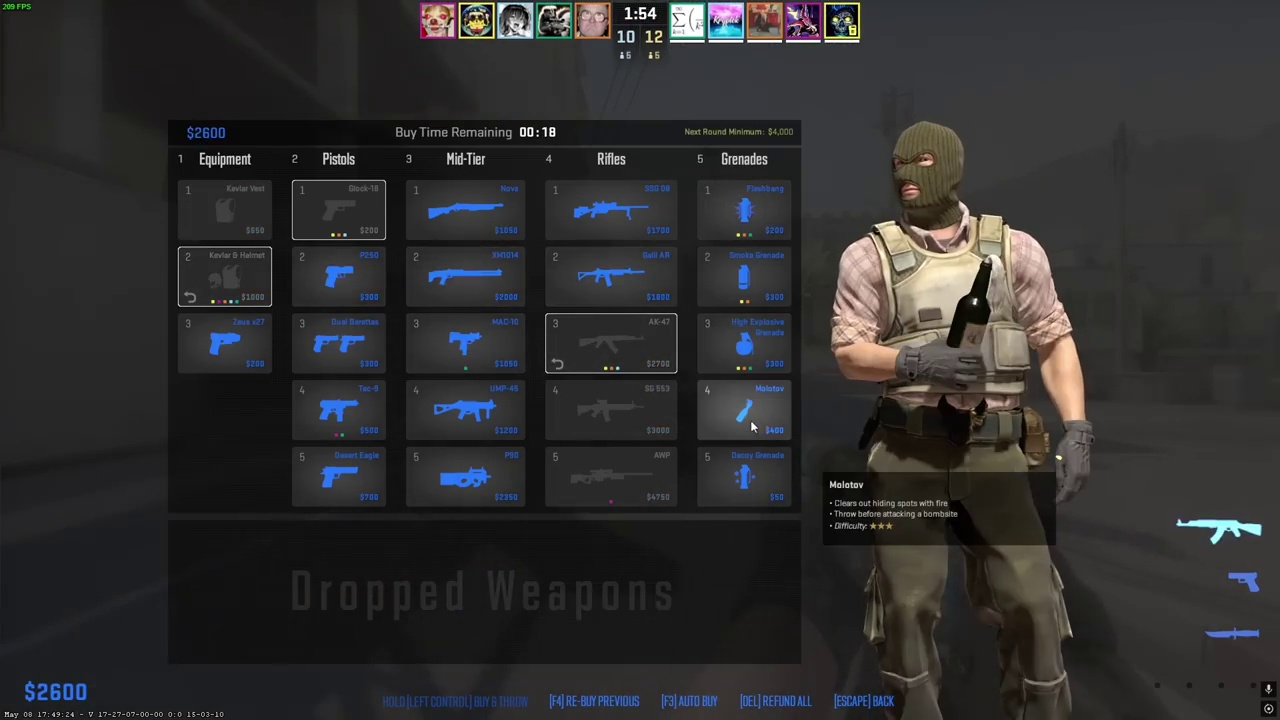Terrorist: (847, 122, 1077, 720)
